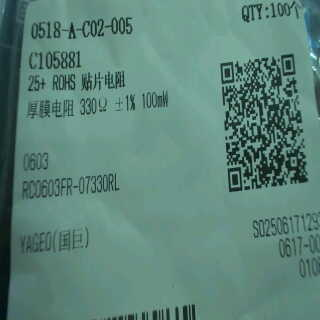330R: (76, 93, 109, 120)
